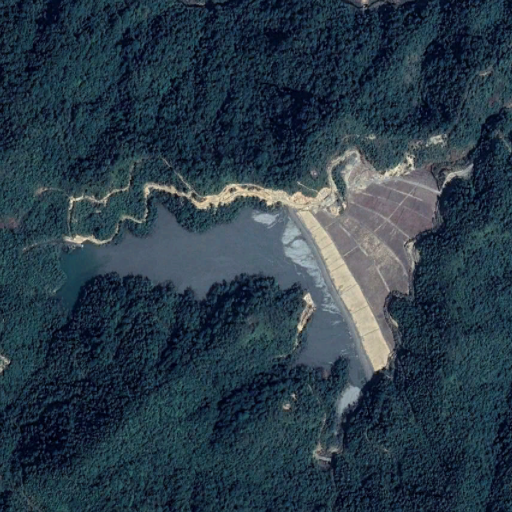tp: (53, 156, 444, 434)
